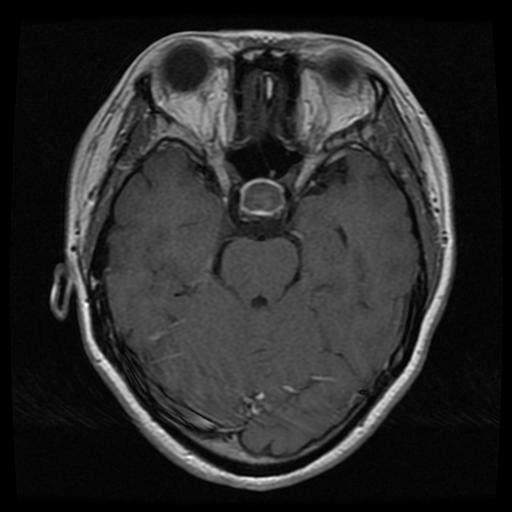Tumour-Pituitary: (231, 177, 294, 223)
